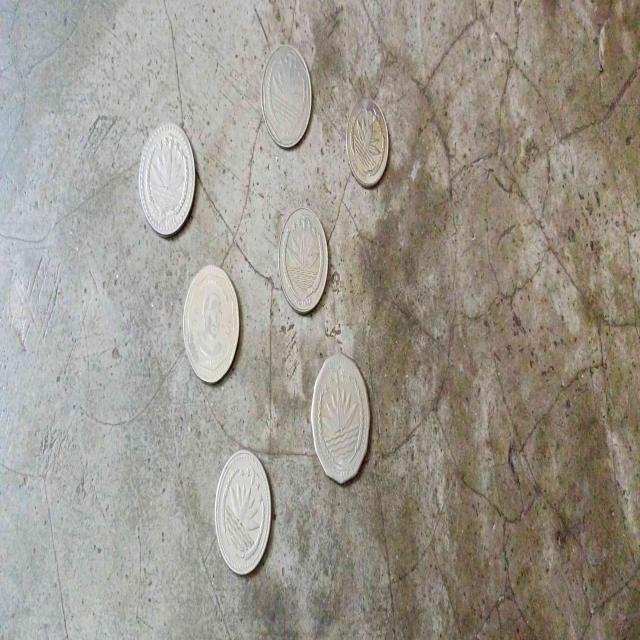1_taka: (202, 434, 282, 590), (254, 38, 316, 158), (344, 91, 394, 197)
2_taka: (137, 109, 198, 247), (274, 201, 334, 322)
5_taka: (303, 338, 376, 498), (182, 262, 243, 388)
